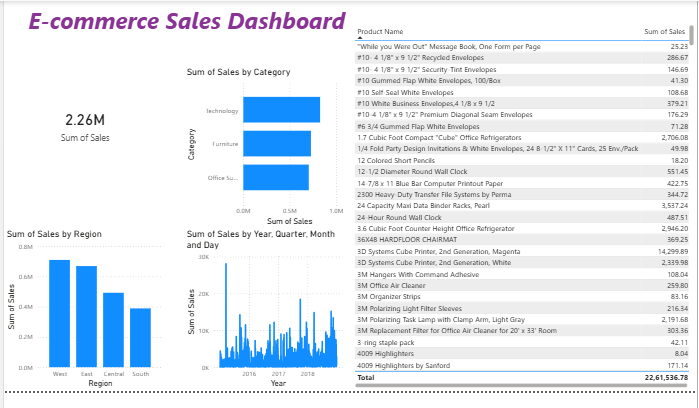

What the dashboard file says about the page in this screenshot:
{"tool":"powerbi","page":{"name":"Page 1","canvas":[1280,720],"ordinal":0},"visuals":[{"type":"card","fields":{"Values":["Sum(superstore sales dataset.Sales)"]},"box":[0,78.5,300.1,300.1],"z":0},{"type":"clusteredColumnChart","fields":{"Category":["superstore sales dataset.Region"],"Y":["Sum(superstore sales dataset.Sales)"]},"box":[0,420.2,297.8,300.1],"z":1000},{"type":"barChart","fields":{"Y":["Sum(superstore sales dataset.Sales)"],"Category":["superstore sales dataset.Category"]},"box":[332.5,120.1,300.1,300.1],"z":2000},{"type":"lineChart","fields":{"Y":["Sum(superstore sales dataset.Sales)"],"Category":["superstore sales dataset.Order Date.Variation.Date Hierarchy.Year","superstore sales dataset.Order Date.Variation.Date Hierarchy.Quarter","superstore sales dataset.Order Date.Variation.Date Hierarchy.Month","superstore sales dataset.Order Date.Variation.Date Hierarchy.Day"]},"box":[332.5,420.2,300.1,300.1],"z":3000},{"type":"tableEx","fields":{"Values":["superstore sales dataset.Product Name","Sum(superstore sales dataset.Sales)"]},"box":[642.6,39.2,637.5,680.1],"z":4000},{"type":"textbox","box":[0,0,639.5,78.5],"z":4001}]}

Visuals, with their boxes on the page's 1280x720 design canvas (x1, y1, x2, y2). These are canvas units, not pixel positions in the 699x408 screenshot, which may show the page scaled, cropped or inside an application window:
card - Sum(superstore sales dataset.Sales): select_region(0, 78, 300, 379)
clusteredColumnChart - superstore sales dataset.Region x Sum(superstore sales dataset.Sales): select_region(0, 420, 298, 720)
barChart - Sum(superstore sales dataset.Sales) x superstore sales dataset.Category: select_region(332, 120, 633, 420)
lineChart - Sum(superstore sales dataset.Sales) x superstore sales dataset.Order Date.Variation.Date Hierarchy.Year: select_region(332, 420, 633, 720)
tableEx - superstore sales dataset.Product Name x Sum(superstore sales dataset.Sales): select_region(643, 39, 1280, 719)
textbox: select_region(0, 0, 640, 78)
